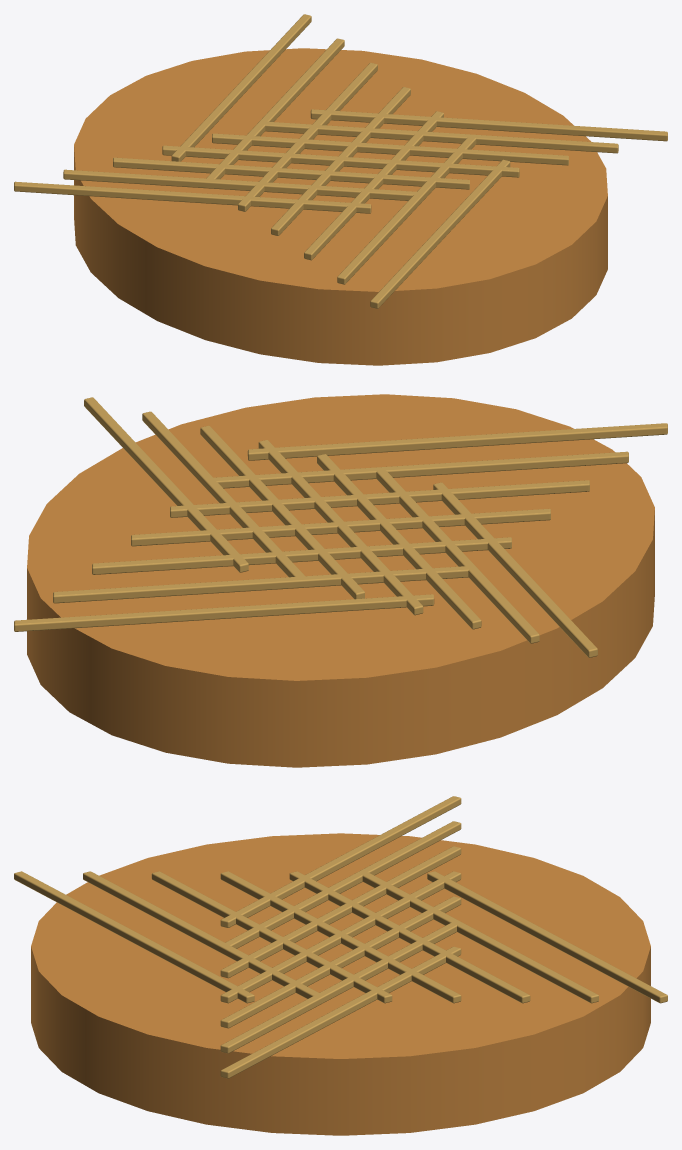
File: wp-galette-des-rois.glb
3 renders of one model, top to bottom at view 1: azimuth 30°, elevation 25°; view 2: azimuth 150°, elevation 25°; view 3: azimuth 270°, elevation 25°, orthographic. The views are drawn at different scales.
Parts seen in each view (by area): view 1: wp-galette-des-rois; view 2: wp-galette-des-rois; view 3: wp-galette-des-rois.
Part boxes in pixels (x1,y1,x2,y2): wp-galette-des-rois: (14,14,667,365); wp-galette-des-rois: (14,394,667,767); wp-galette-des-rois: (14,796,667,1135).
Size of the model in its own units: 0.2995 by 0.045 by 0.2994.
